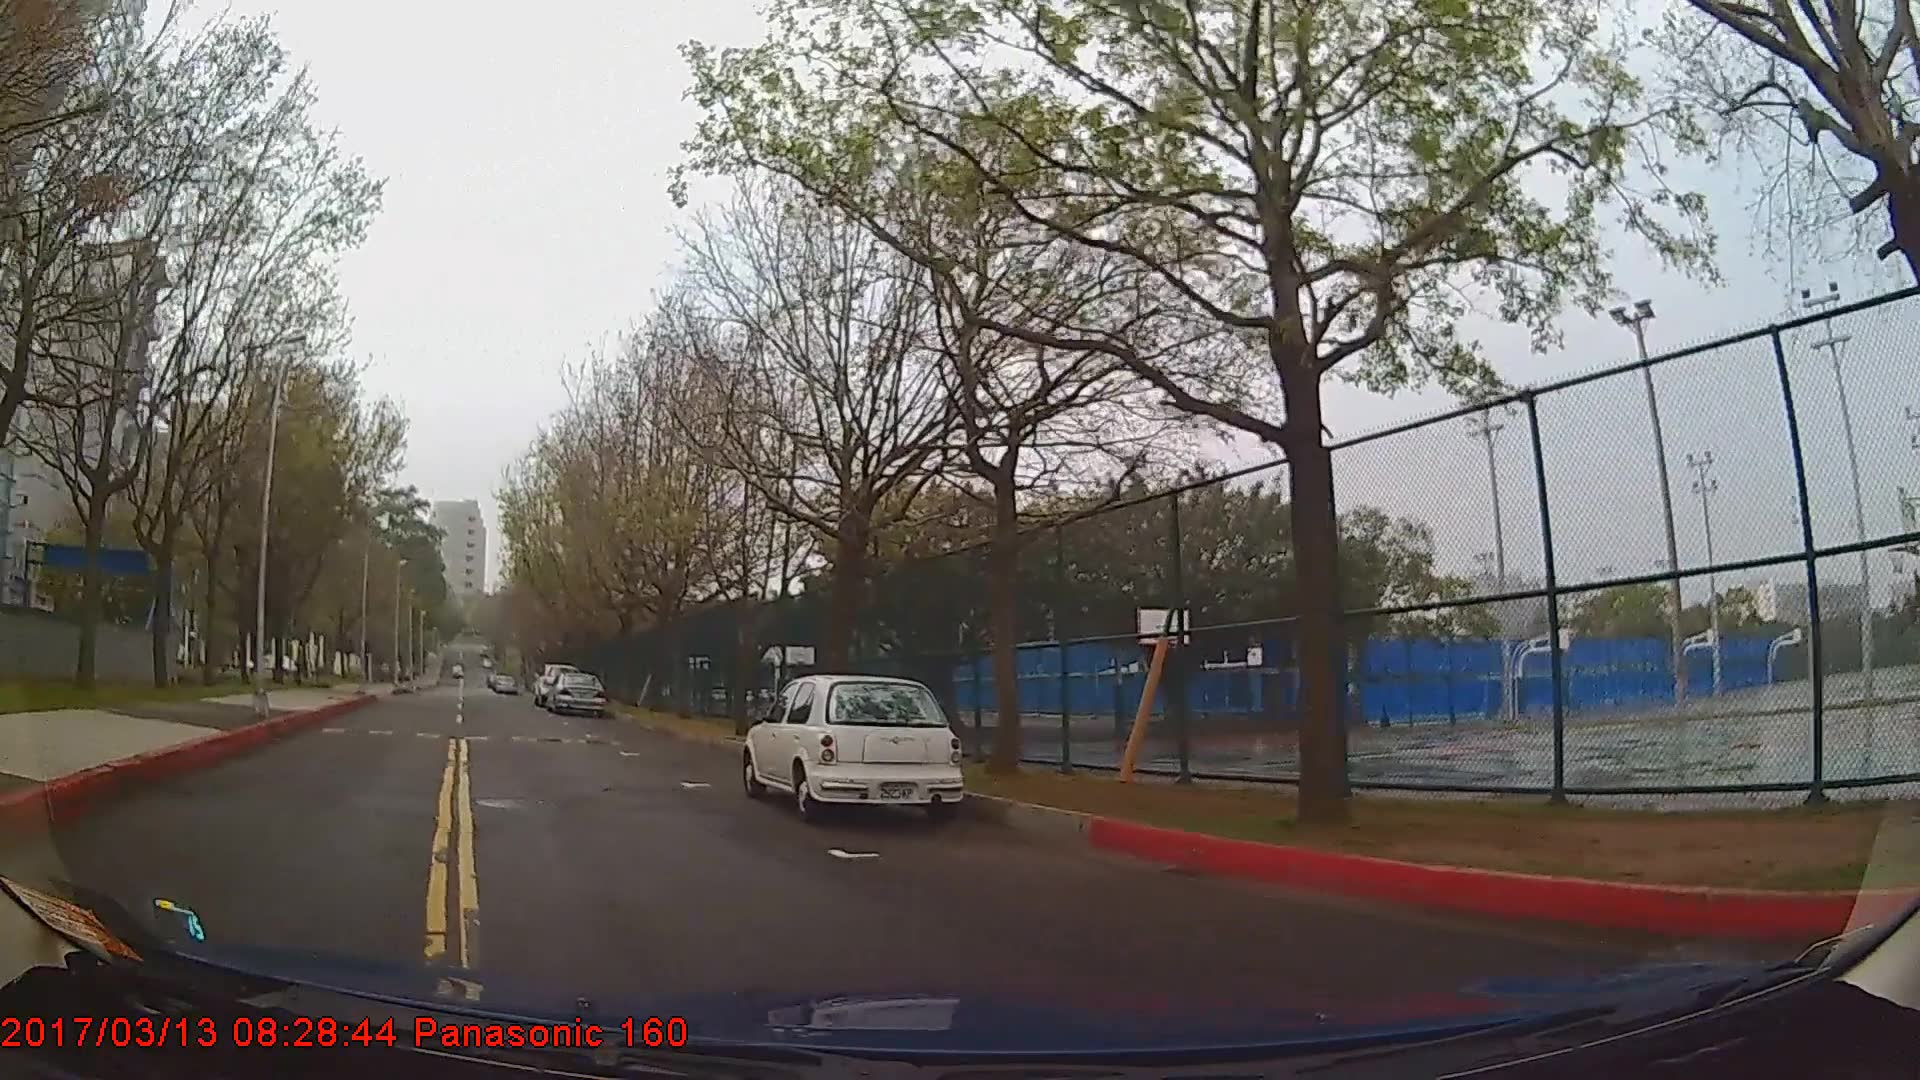vehicle: (738, 673, 964, 818), (546, 669, 604, 712)
